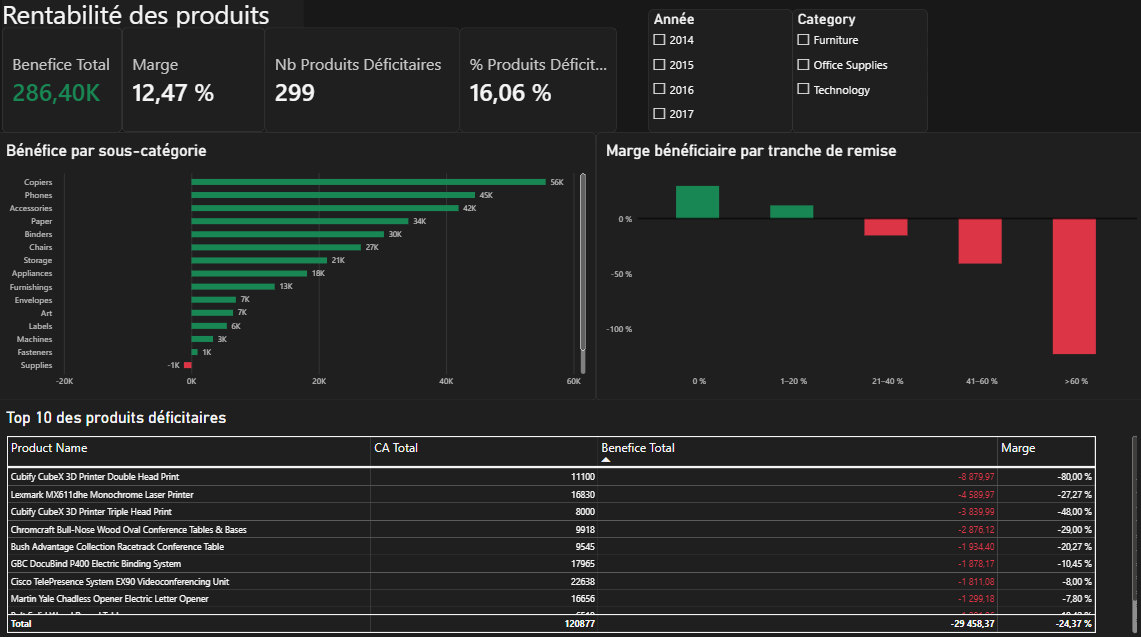

What the dashboard file says about the page in this screenshot:
{"tool":"powerbi","page":{"name":"Rentabilité des Produits","canvas":[1920,1080],"ordinal":1},"visuals":[{"type":"textbox","box":[10,0,502.5,102.5],"z":0},{"type":"cardVisual","fields":{"Data":["Sample - Superstore.Benefice Total"]},"box":[10,52.5,200,175],"z":1000},{"type":"cardVisual","fields":{"Data":["Sample - Superstore.Marge"]},"box":[209,52.2,238.5,174.9],"z":2000},{"type":"cardVisual","fields":{"Data":["Sample - Superstore.Nb Produits Déficitaires"]},"box":[447.4,52.2,325,175],"z":3000},{"type":"clusteredBarChart","title":"Bénéfice par sous-catégorie","fields":{"Category":["Sample - Superstore.Sub-Category"],"Y":["Sample - Superstore.Benefice Total"]},"box":[0,226.7,1000,446.7],"z":4000},{"type":"clusteredColumnChart","title":"Marge bénéficiaire par tranche de remise","fields":{"Category":["Sample - Superstore.Tranche Remise"],"Y":["Sample - Superstore.Marge"]},"box":[1000,226.7,920,446.7],"z":5000},{"type":"tableEx","title":"Top 10 des produits déficitaires","fields":{"Values":["Sample - Superstore.Product Name","Sample - Superstore.CA Total","Sample - Superstore.Benefice Total","Sample - Superstore.Marge"]},"box":[0,673.3,1920,406.7],"z":6000},{"type":"slicer","fields":{"Values":["Calendrier.Année"]},"box":[1087.5,22.5,240,205],"z":7000},{"type":"slicer","fields":{"Values":["Sample - Superstore.Category"]},"box":[1327.5,22.5,225,205],"z":8000},{"type":"cardVisual","fields":{"Data":["Sample - Superstore.% Produits Déficitaires"]},"box":[772.2,52.2,262.5,175],"z":9000}]}

Visuals, with their boxes in screenshot pixels (x1, y1, x2, y2), scaled from the page's 1920x1080 canvas onto the 1141x637 screenshot:
textbox: region(6, 0, 305, 60)
cardVisual - Sample - Superstore.Benefice Total: region(6, 31, 125, 134)
cardVisual - Sample - Superstore.Marge: region(124, 31, 266, 134)
cardVisual - Sample - Superstore.Nb Produits Déficitaires: region(266, 31, 459, 134)
"Bénéfice par sous-catégorie" clusteredBarChart: region(0, 134, 594, 397)
"Marge bénéficiaire par tranche de remise" clusteredColumnChart: region(594, 134, 1140, 397)
"Top 10 des produits déficitaires" tableEx: region(0, 397, 1140, 636)
slicer - Calendrier.Année: region(646, 13, 789, 134)
slicer - Sample - Superstore.Category: region(789, 13, 923, 134)
cardVisual - Sample - Superstore.% Produits Déficitaires: region(459, 31, 615, 134)
